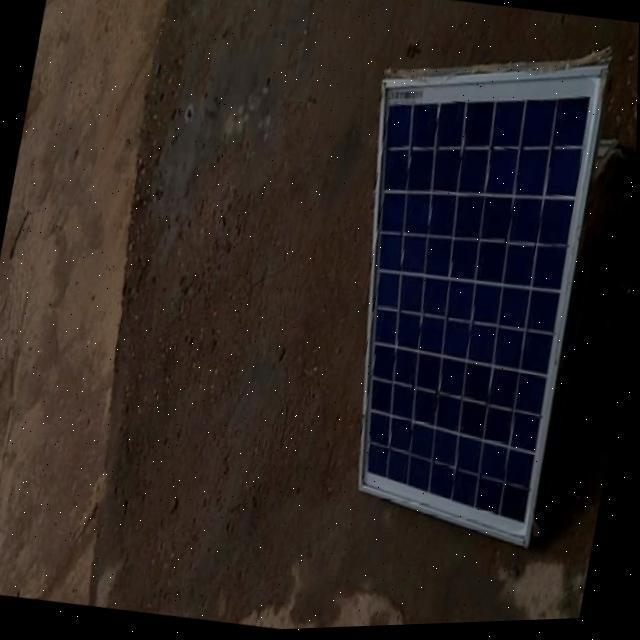Normal Solar Panel: (306, 19, 620, 558)
